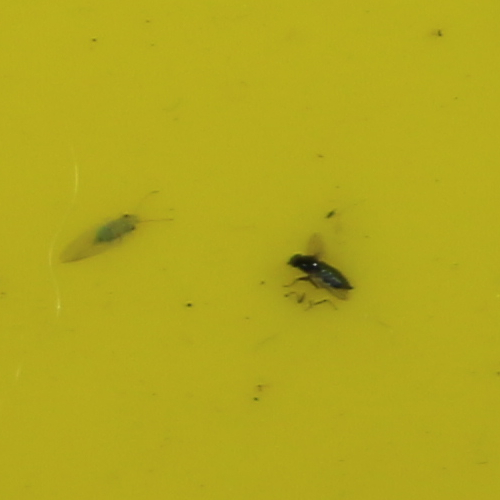Glycaspis: (92, 212, 140, 245)
